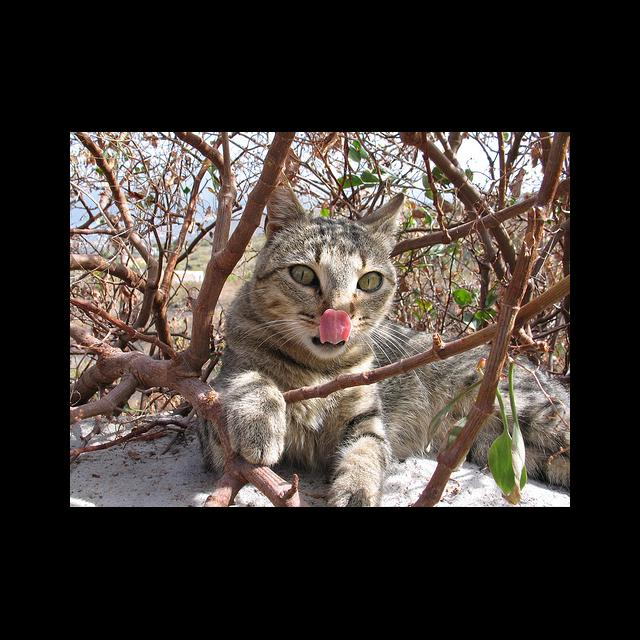animals: (268, 168, 404, 326)
